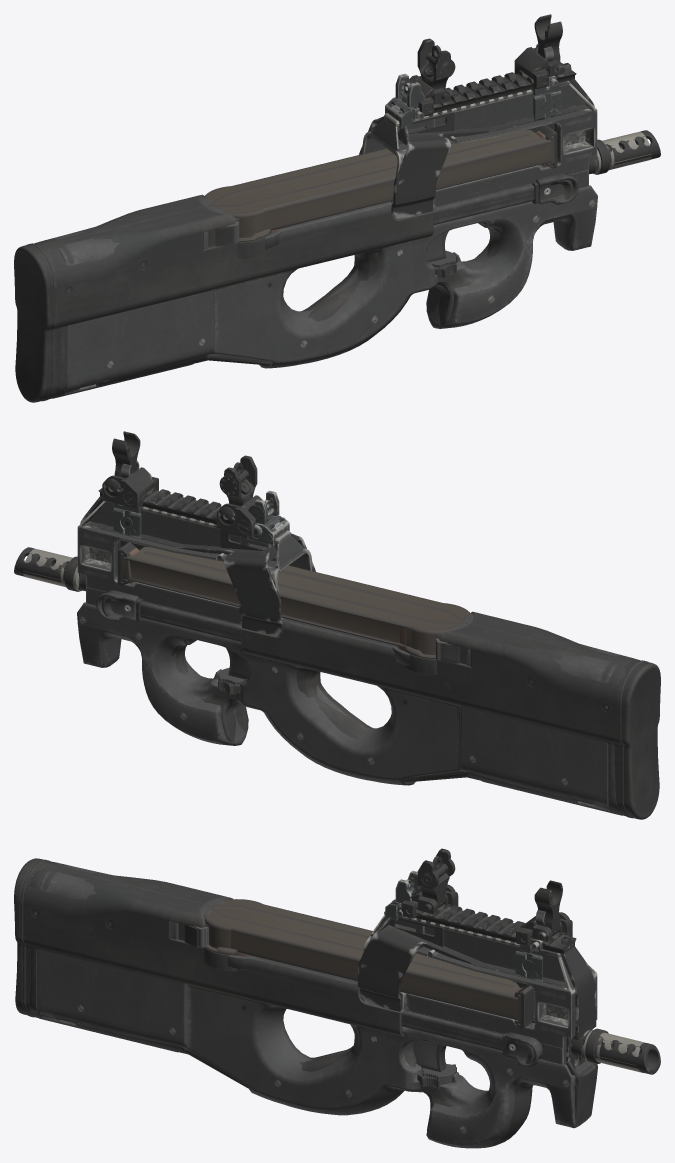
The model's file is weapon_p90.glb.
3 views of the same model, one above another, from view 1: azimuth 30°, elevation 25°; view 2: azimuth 150°, elevation 25°; view 3: azimuth 330°, elevation 25° (orthographic).
Parts seen in each view (by area): view 1: weapons/models/p90/weapon_smg_p90.vmdl_c.body_hd, weapons/models/p90/weapon_smg_p90.vmdl_c.body_legacy; view 2: weapons/models/p90/weapon_smg_p90.vmdl_c.body_hd, weapons/models/p90/weapon_smg_p90.vmdl_c.body_legacy; view 3: weapons/models/p90/weapon_smg_p90.vmdl_c.body_hd, weapons/models/p90/weapon_smg_p90.vmdl_c.body_legacy.
Part boxes in pixels (x1,y1,x2,y2): weapons/models/p90/weapon_smg_p90.vmdl_c.body_hd: (14, 14, 660, 402); weapons/models/p90/weapon_smg_p90.vmdl_c.body_legacy: (35, 44, 651, 393); weapons/models/p90/weapon_smg_p90.vmdl_c.body_hd: (14, 431, 660, 819); weapons/models/p90/weapon_smg_p90.vmdl_c.body_legacy: (23, 461, 639, 810); weapons/models/p90/weapon_smg_p90.vmdl_c.body_hd: (14, 848, 660, 1148); weapons/models/p90/weapon_smg_p90.vmdl_c.body_legacy: (29, 861, 644, 1148).
Bounding box in the file's own units: 20.38 × 8.78 × 2.35.
Materials: 2 (2 with a texture image).
